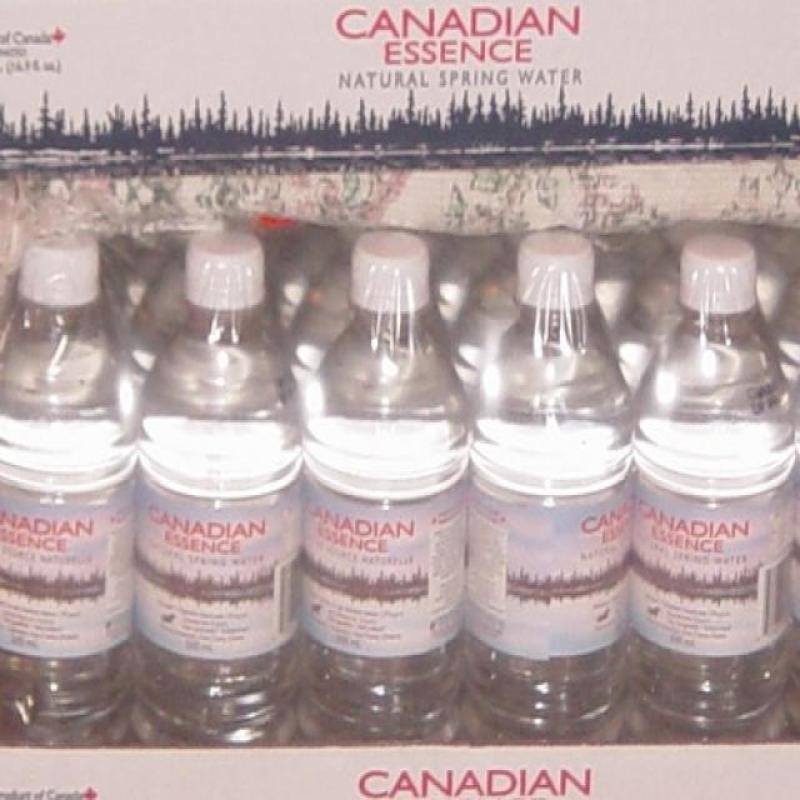botella: (130, 230, 302, 750), (304, 231, 468, 750), (470, 231, 632, 748), (634, 236, 796, 745), (1, 238, 130, 748)
